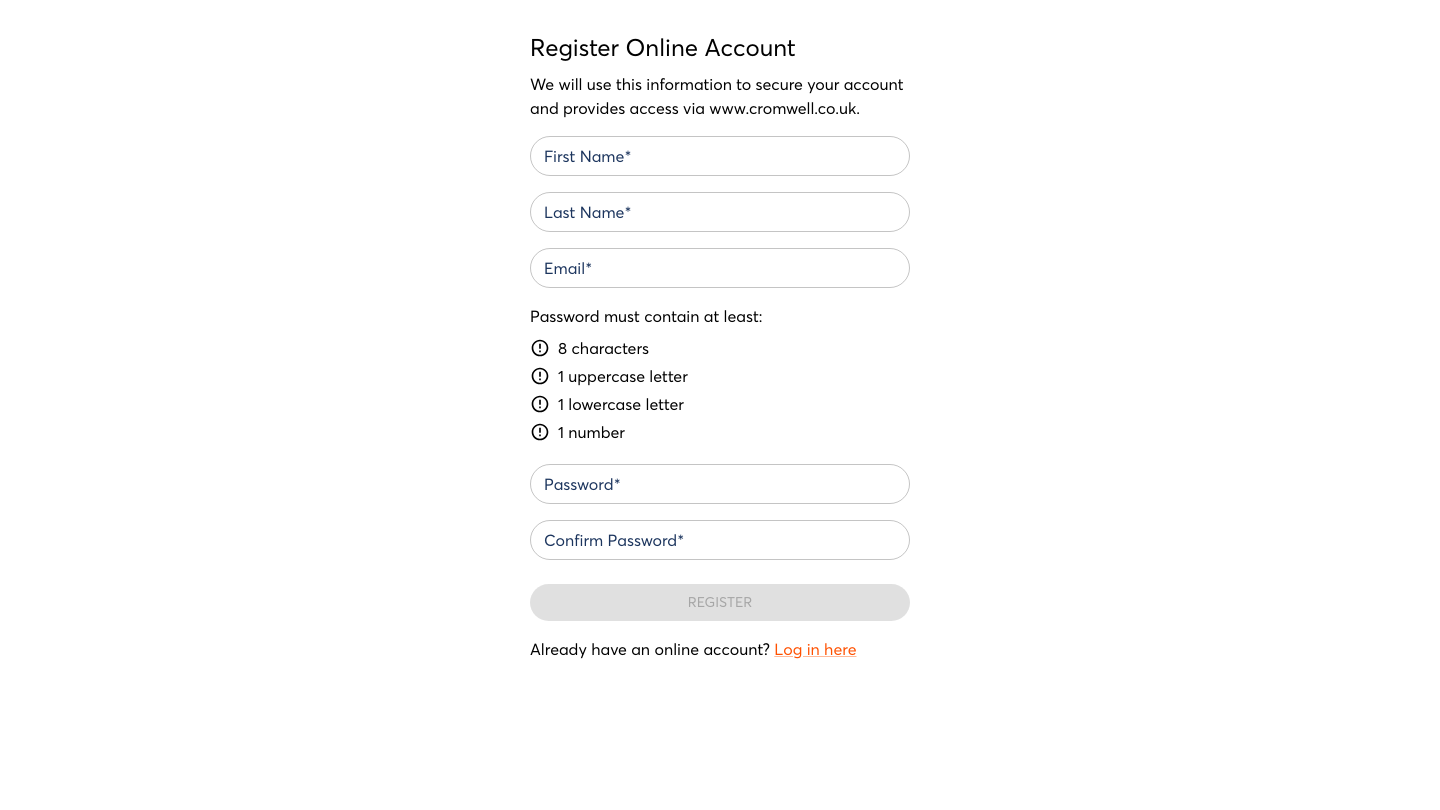
Test: Register Page › should register successfully and navigate to home page
Step 1. Type "john" into the field labelled "First Name *" → (720, 156), box [530,136,910,176]
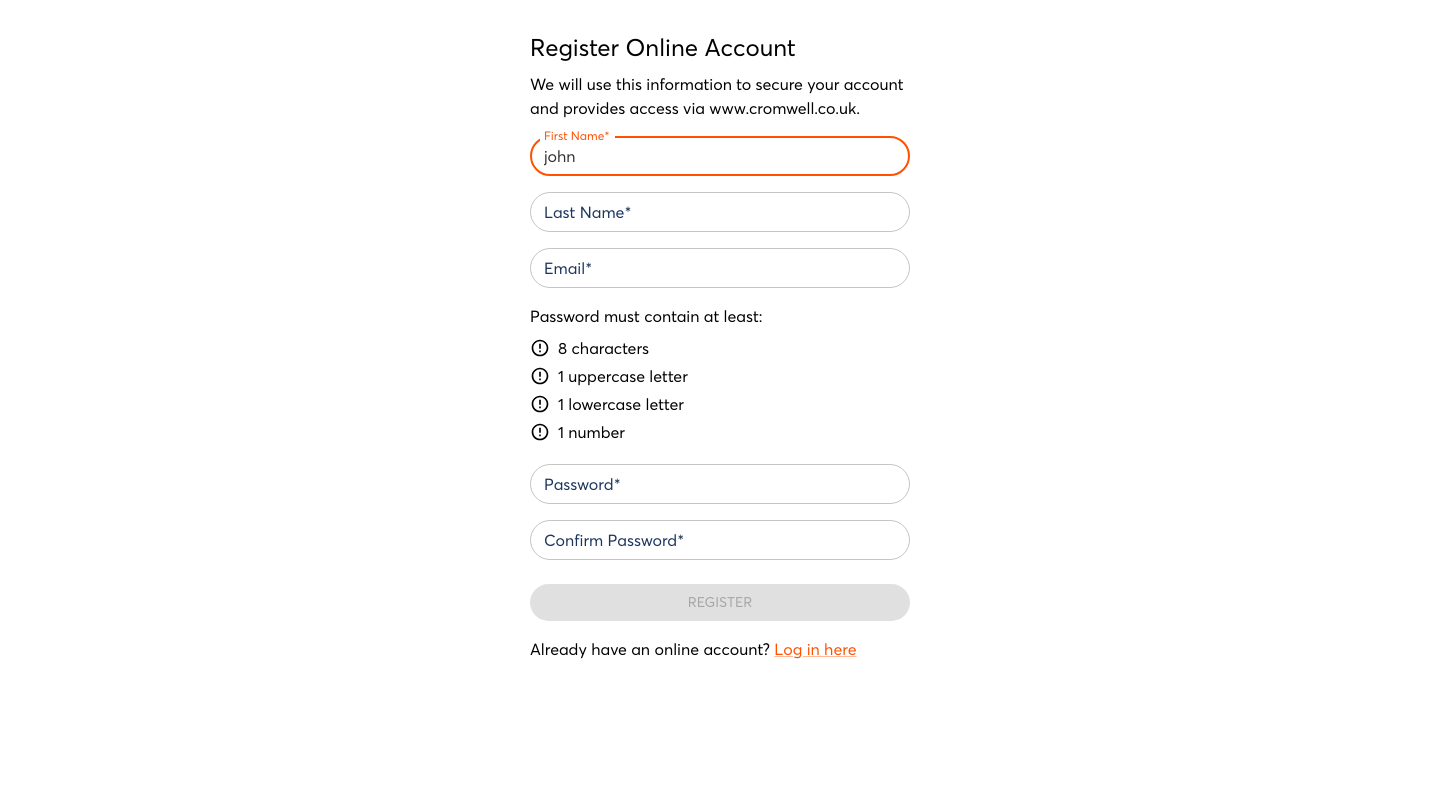
Step 2. Type "doe" into the field labelled "Last Name *" → (720, 212), box [530,192,910,232]
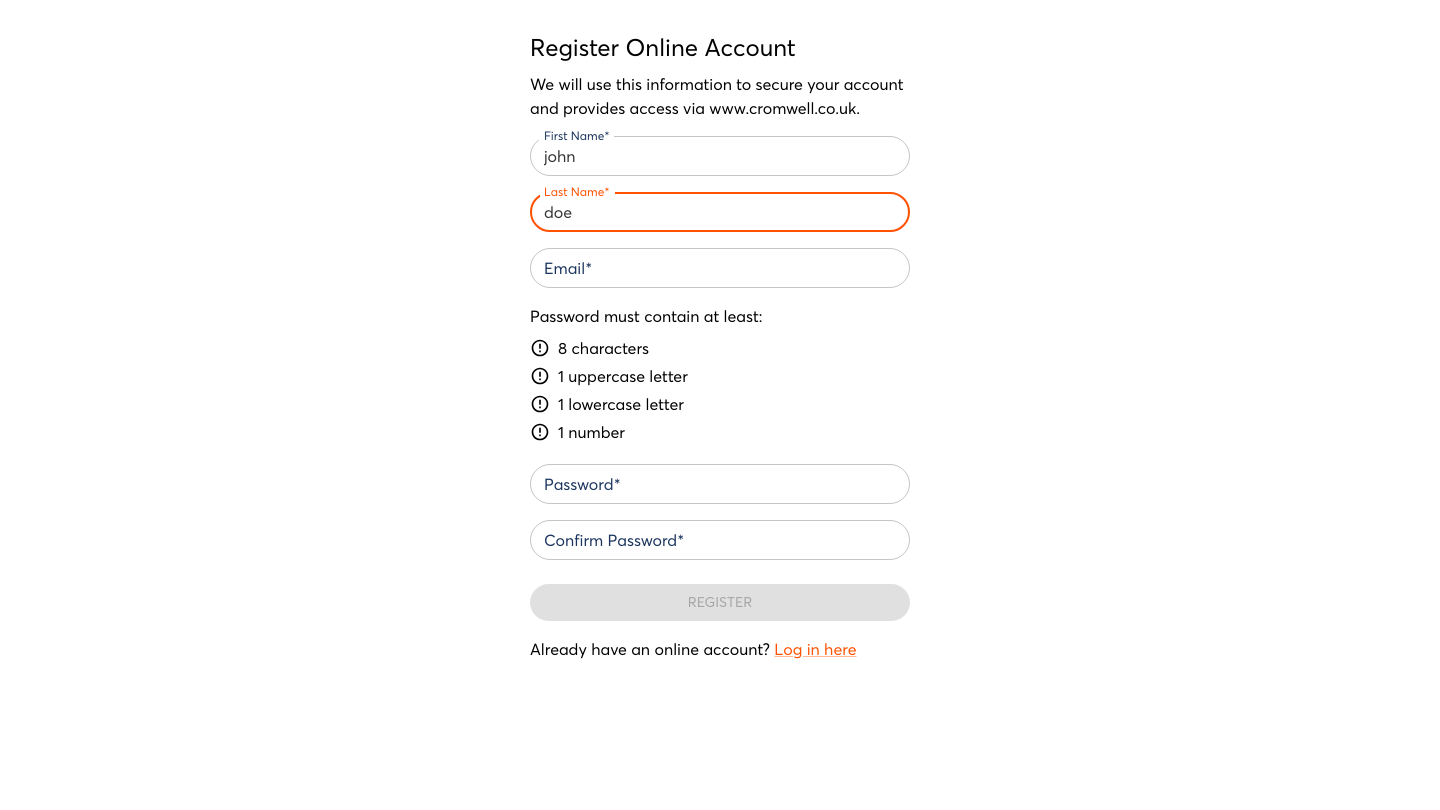
Step 3. Type "john@example.com" into the field labelled "Email *" → (720, 268), box [530,248,910,288]
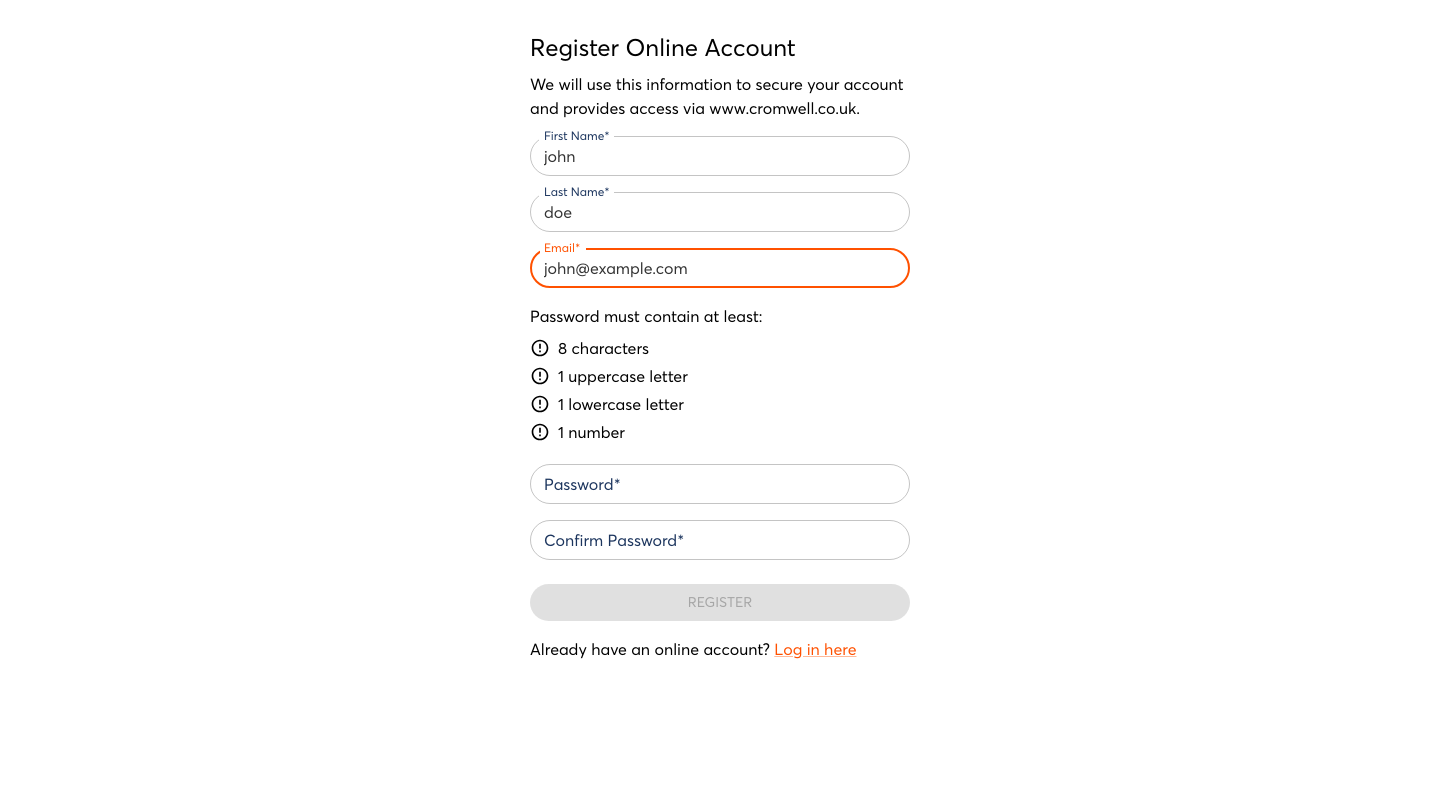
Step 4. Type "Password123!" into the password field labelled "Password *" → (720, 484), box [530,464,910,504]
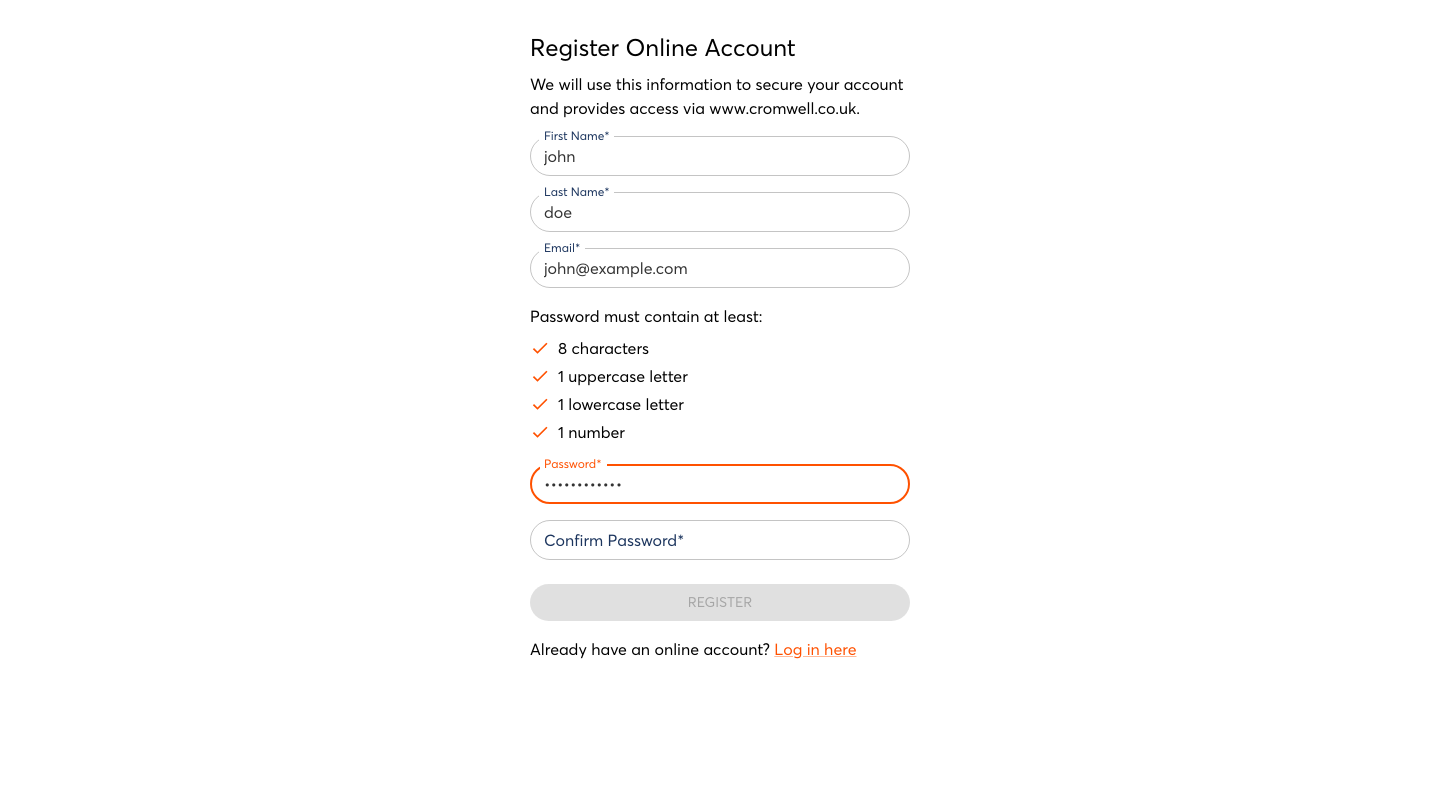
Step 5. Type "Password123!" into the password field labelled "Confirm Password *" → (720, 540), box [530,520,910,560]
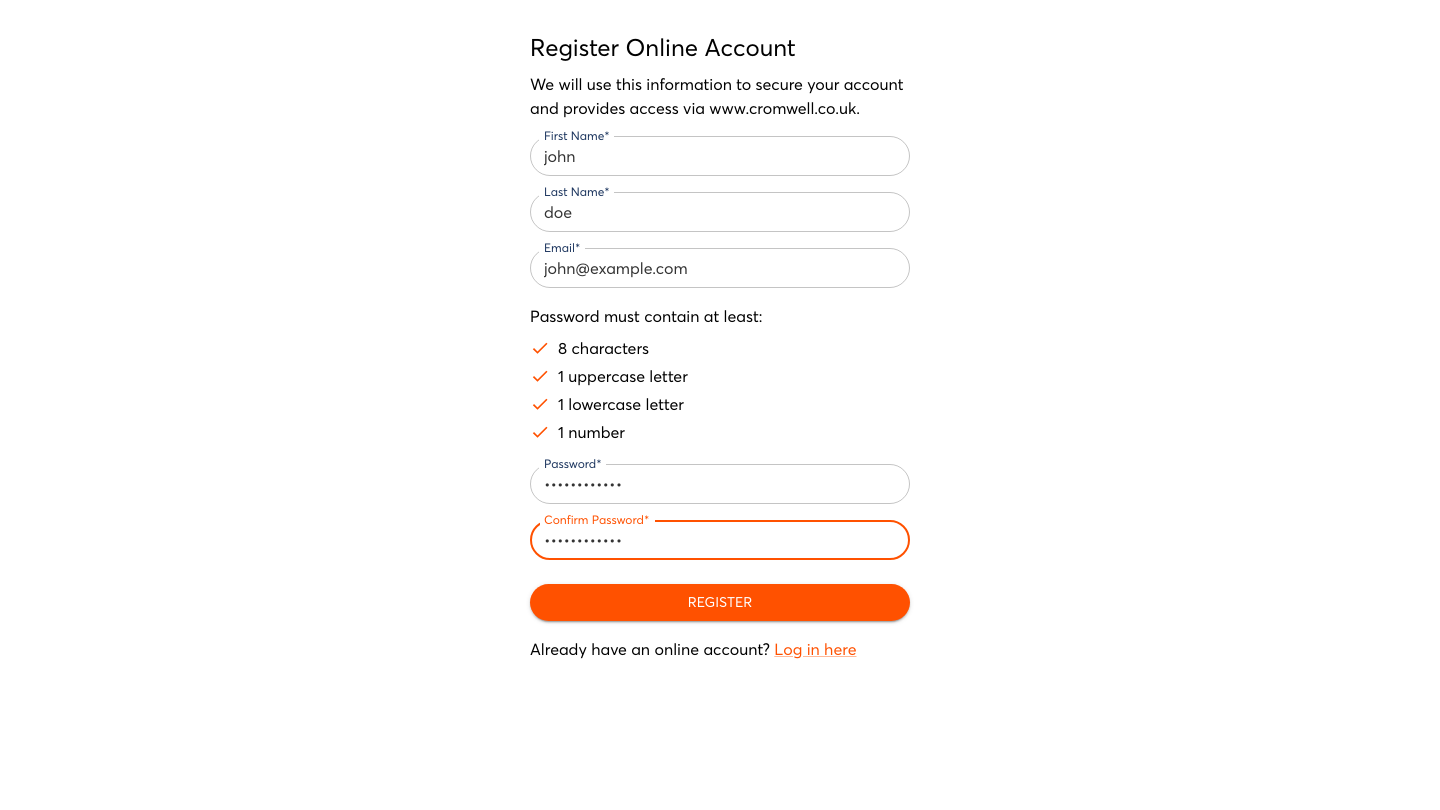
Step 6. Click the button "REGISTER" → (720, 602), box [530,584,910,620]
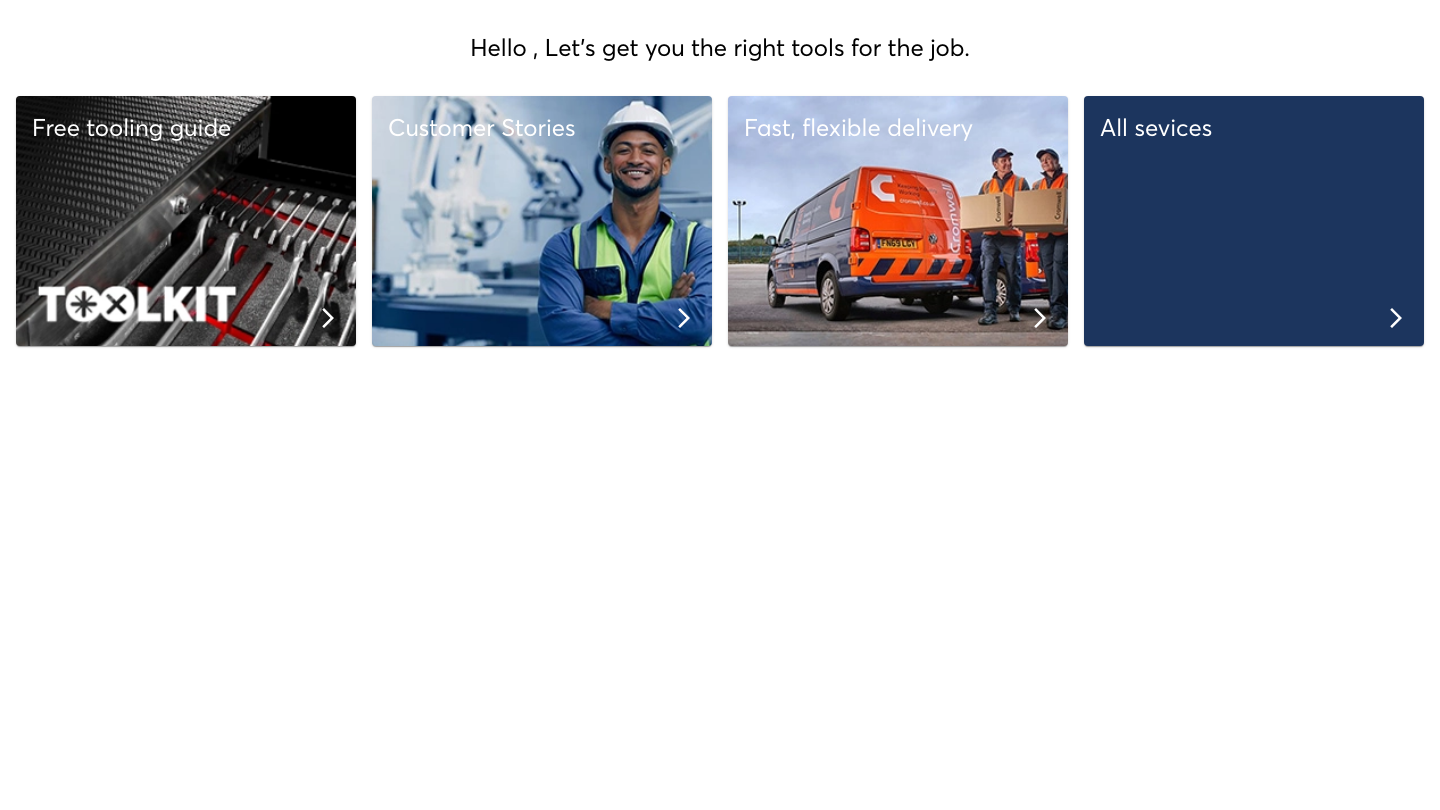
Expected: the heading "Hello , Let’s get you the right tools for the job." is shown, [470,33,970,62]
